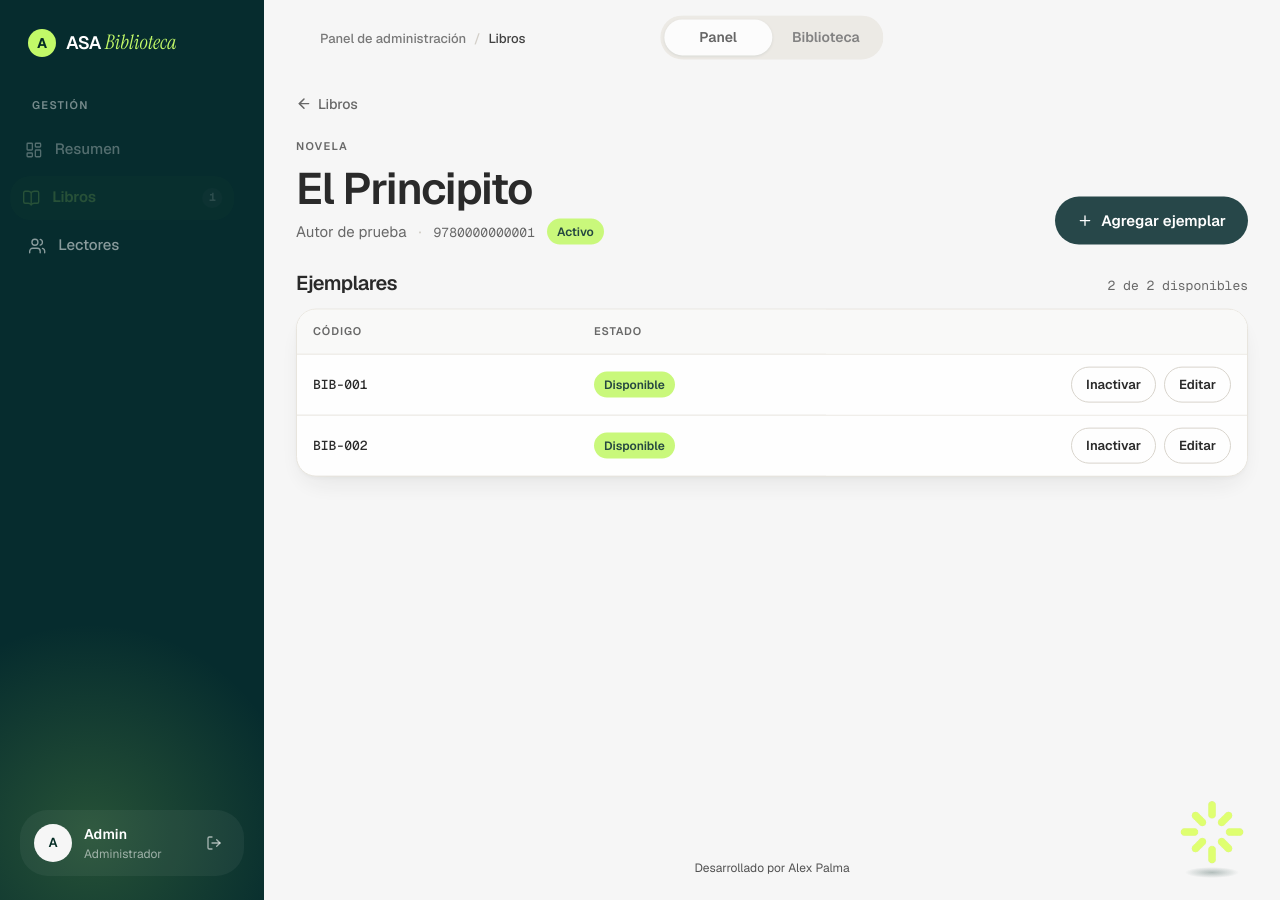
Test: admin: editar e inactivar ejemplares › con conflicto de concurrencia avisa y recarga la lista para tomar el rowVersion nuevo
This screenshot has width=1280, height=900.
Click the button with aria-label "Editar BIB-001" at (1198, 384), box [1164,366,1231,402]
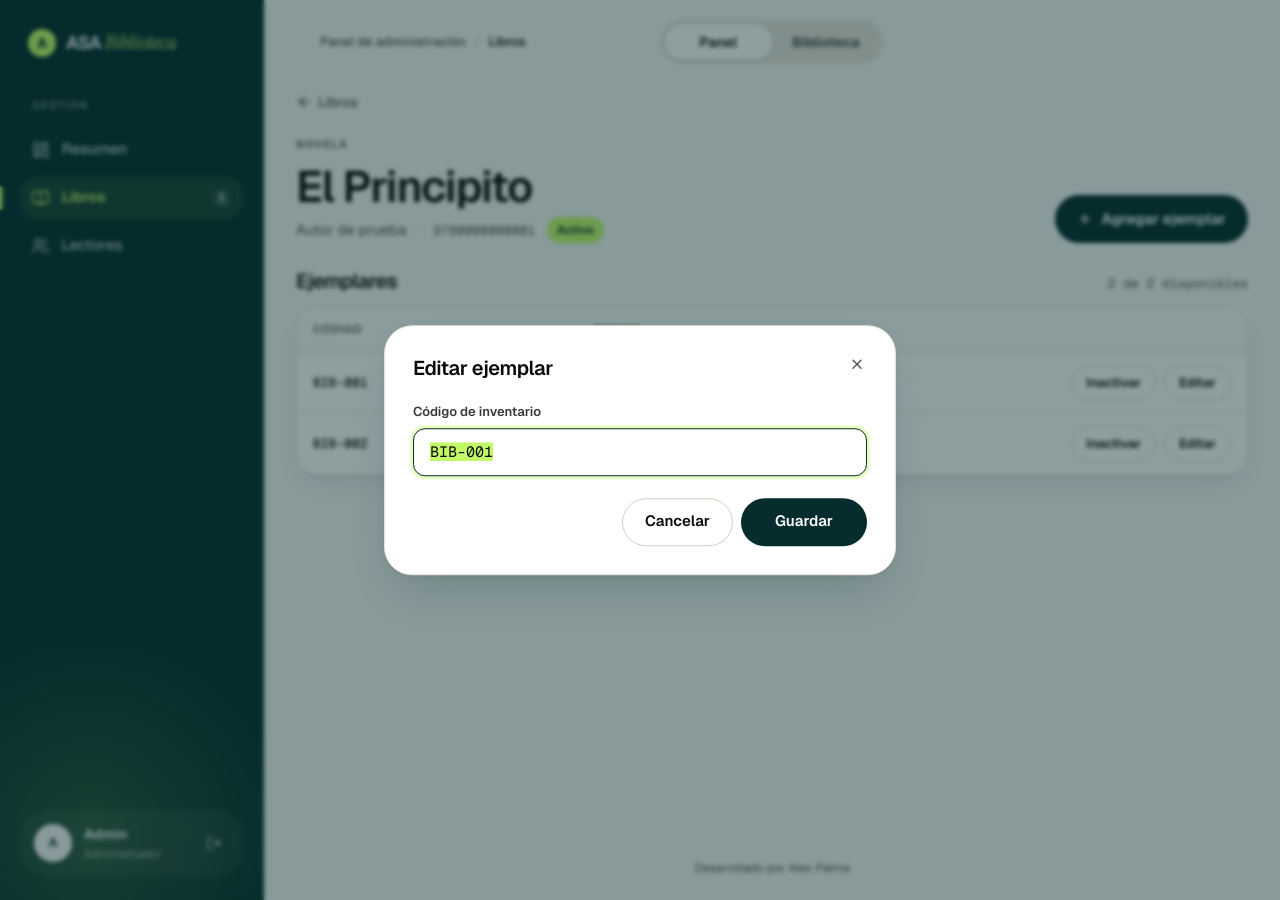
Type "X" into the field labelled "Código de inventario" at (640, 452), box [413,428,867,476]
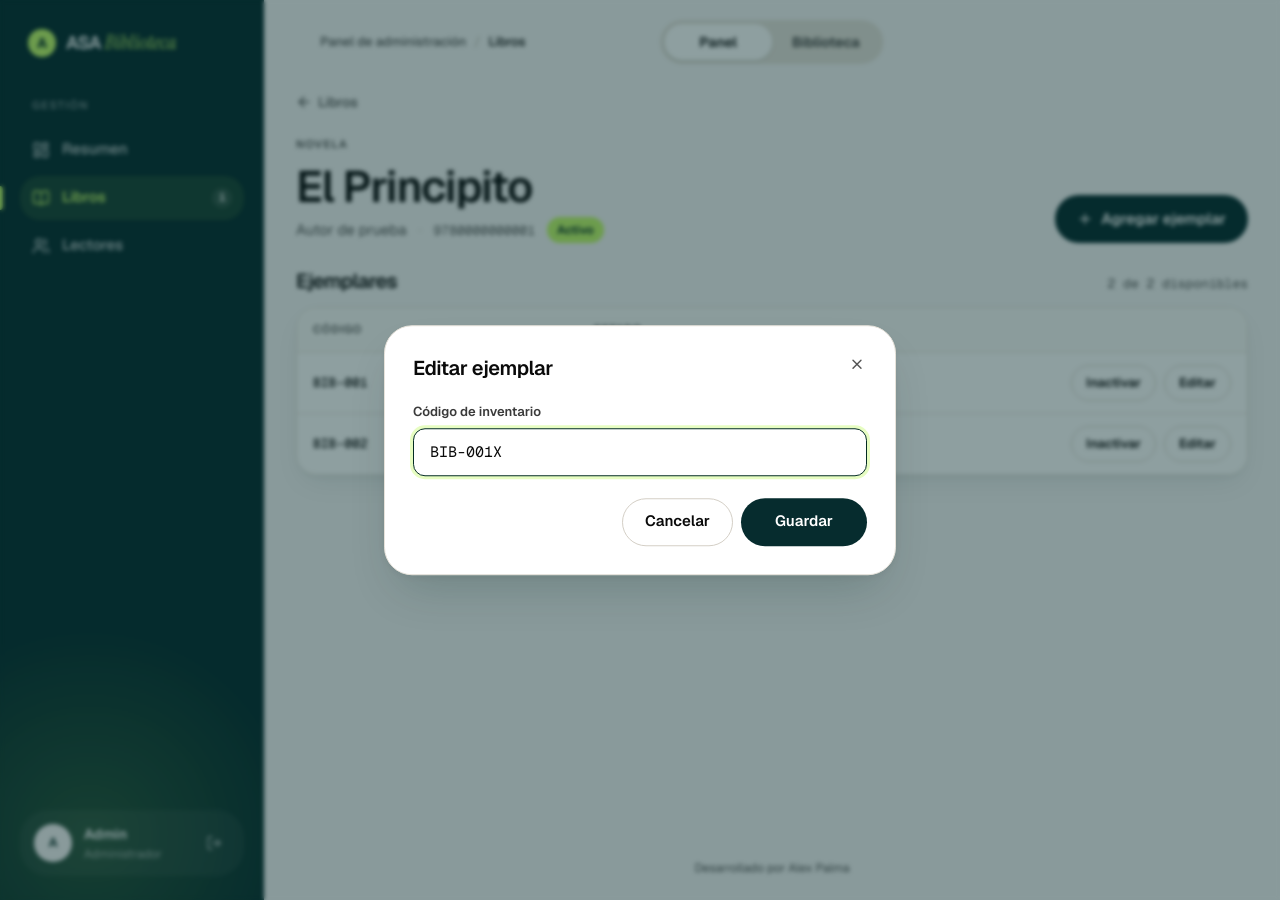
Click the button "Guardar" at (804, 522), box [741,498,867,546]
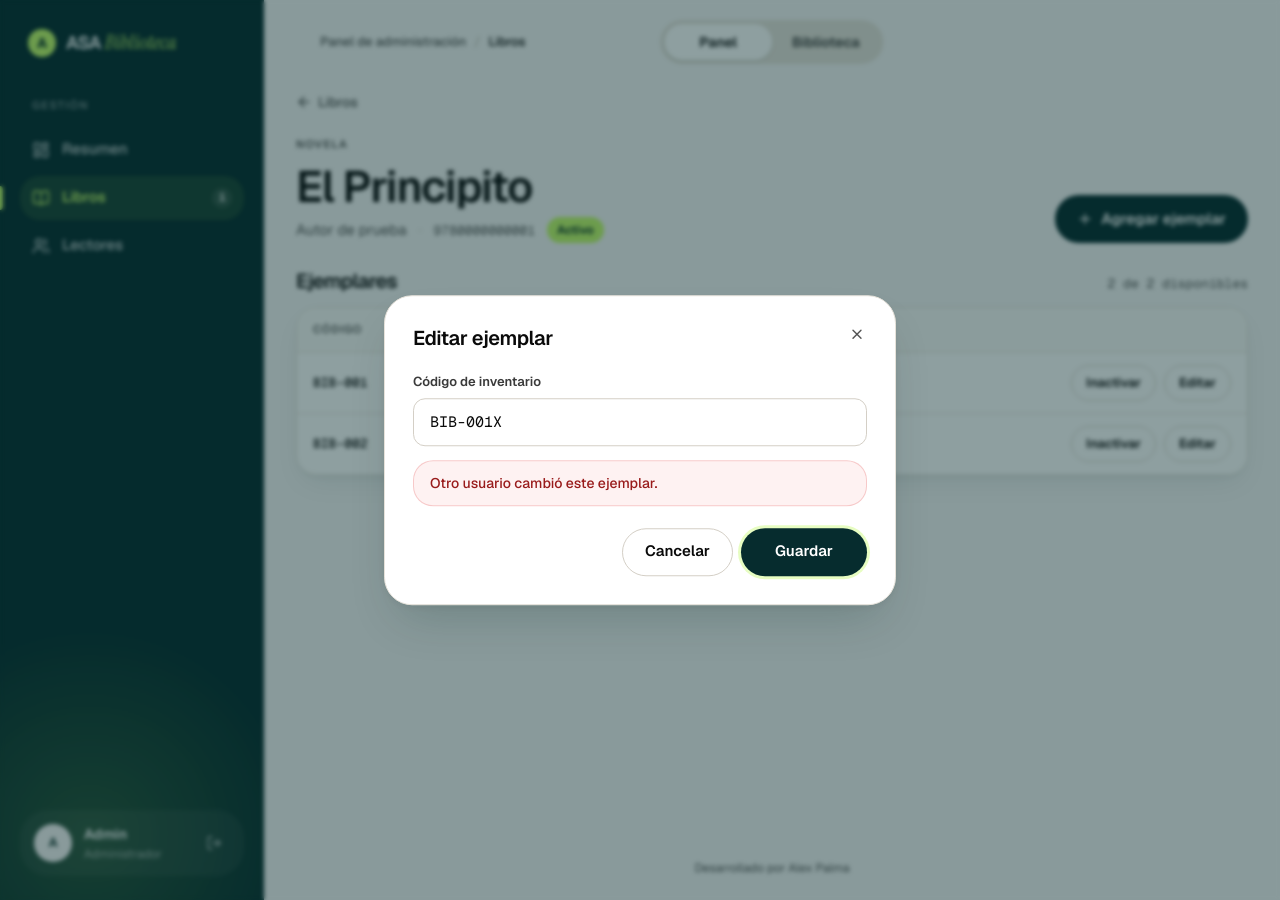
Expected: the message reads "Otro usuario cambió este ejemplar.", [430,474,658,492]
